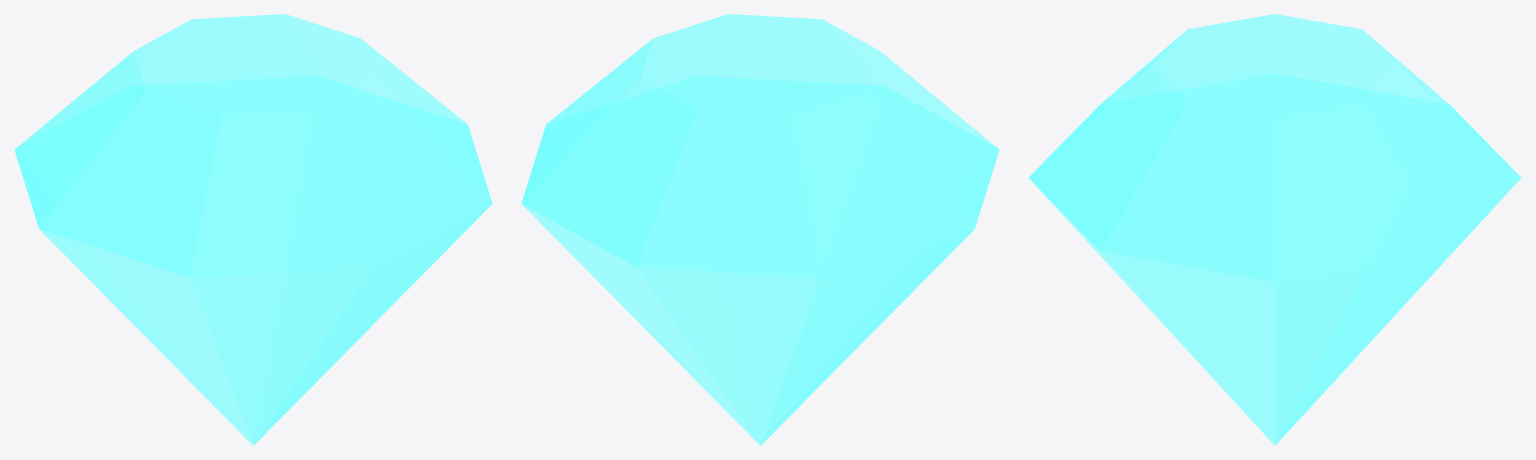
Rendered from diamond.glb.
3 views of the same model, side by side, from view 1: azimuth 30°, elevation 25°; view 2: azimuth 150°, elevation 25°; view 3: azimuth 270°, elevation 25° (orthographic).
Visible parts, largest first — view 1: Cone.001, Cone; view 2: Cone.001, Cone; view 3: Cone.001, Cone.
Boxes of the visible parts, <box> form: Cone.001: <box>15,76,491,445</box>; Cone: <box>14,14,492,277</box>; Cone.001: <box>521,76,998,445</box>; Cone: <box>521,14,999,277</box>; Cone.001: <box>1029,74,1520,445</box>; Cone: <box>1028,14,1521,281</box>.
Bounding box in the file's own units: 2 × 1.7 × 2.
